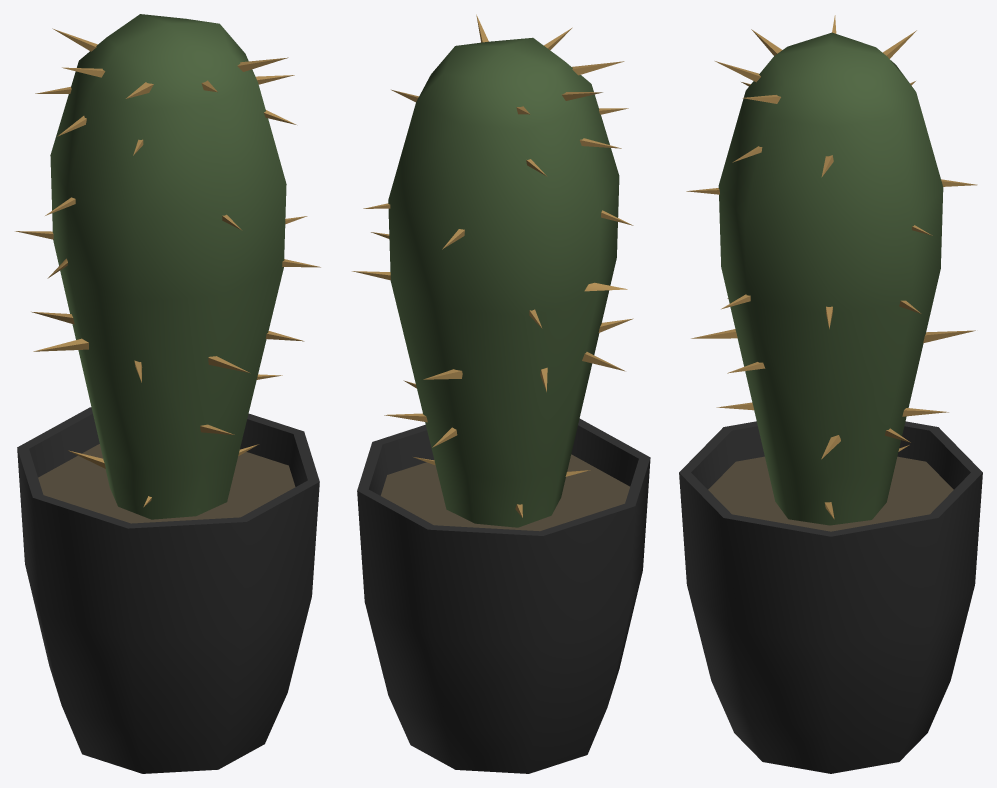
File: interior_prop.plant_pot.home_houseplant_3_01.glb
3 renders of one model, left to right at view 1: azimuth 30°, elevation 25°; view 2: azimuth 150°, elevation 25°; view 3: azimuth 270°, elevation 25°, orthographic. The views are drawn at different scales.
Visible parts, largest first — view 1: DarkGreen, Black, Brown, LightOrange; view 2: DarkGreen, Black, Brown, LightOrange; view 3: DarkGreen, Black, Brown, LightOrange.
Part boxes in pixels (<box>): DarkGreen: <box>50,14,286,519</box>; Black: <box>17,407,319,773</box>; Brown: <box>38,444,295,523</box>; LightOrange: <box>15,28,320,507</box>; DarkGreen: <box>388,37,619,527</box>; Black: <box>357,418,650,773</box>; Brown: <box>380,454,629,531</box>; LightOrange: <box>352,14,633,517</box>; DarkGreen: <box>718,32,943,525</box>; Black: <box>679,421,982,773</box>; Brown: <box>708,456,953,531</box>; LightOrange: <box>686,15,977,519</box>.
Bounding box in the file's own units: 0.3426 × 0.8449 × 0.3383.
